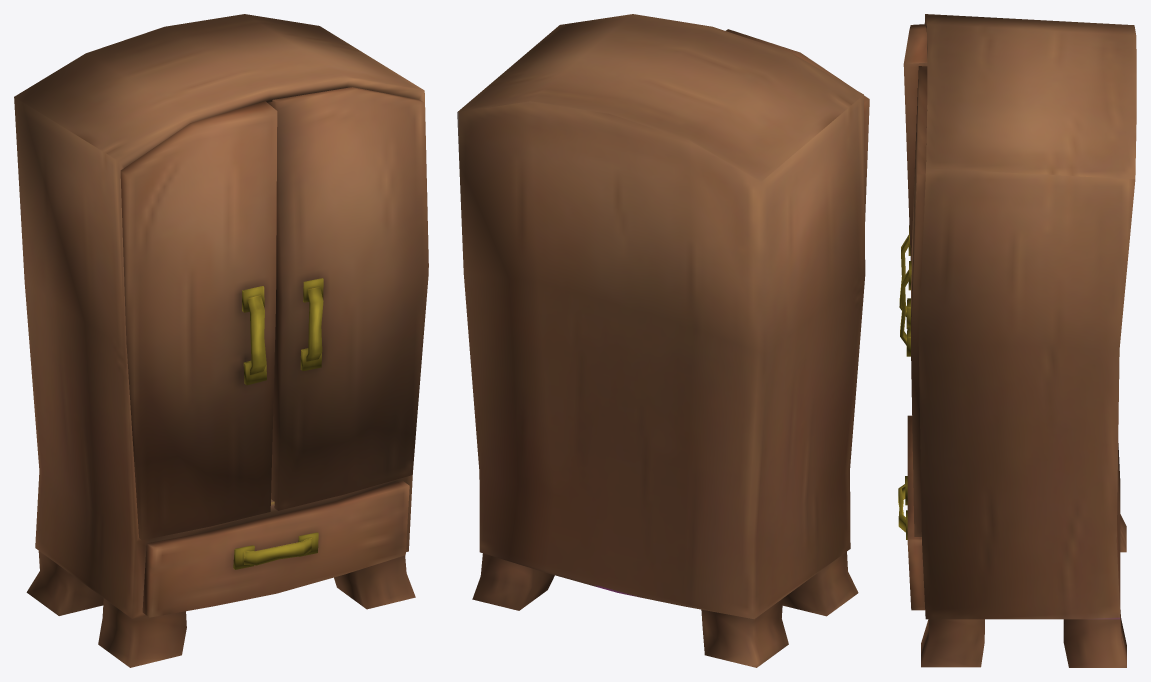
Rendered from Closet1.fbx.
The picture shows the model from 3 angles, left to right: view 1: azimuth 30°, elevation 25°; view 2: azimuth 150°, elevation 25°; view 3: azimuth 270°, elevation 25°; orthographic projection.
Visible parts, largest first — view 1: Cube, Cube1, Cube2; view 2: Cube, Cube2; view 3: Cube, Cube1, Cube2.
Part boxes in pixels (left/top/right/bottom): Cube: left=14, top=14, right=428, bottom=667; Cube1: left=268, top=87, right=428, bottom=510; Cube2: left=120, top=101, right=277, bottom=540; Cube: left=457, top=14, right=865, bottom=667; Cube2: left=725, top=29, right=869, bottom=221; Cube: left=898, top=14, right=1136, bottom=667; Cube1: left=900, top=66, right=927, bottom=536; Cube2: left=899, top=24, right=927, bottom=328.
Bounding box in the file's own units: 122 × 204 × 81.47.
1 material, 1 textured.
